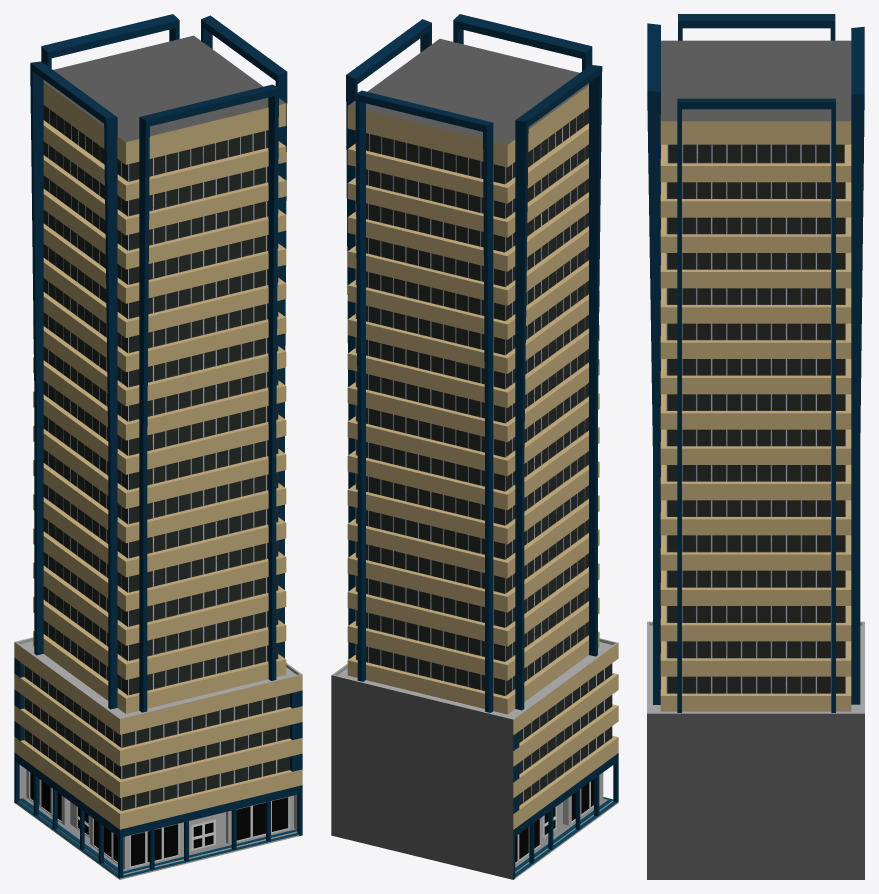
The picture shows the model from 3 angles, left to right: view 1: azimuth 30°, elevation 25°; view 2: azimuth 150°, elevation 25°; view 3: azimuth 270°, elevation 25°; orthographic projection. The views are drawn at different scales.
Parts seen in each view (by area): view 1: EC-13; view 2: EC-13; view 3: EC-13.
Boxes of the visible parts, x1,y1,x2,y2 form: EC-13: (14, 14, 302, 879); EC-13: (331, 14, 618, 879); EC-13: (647, 14, 864, 879).
Size of what is drawn, in the model's own units: 20 by 78.8 by 20.
